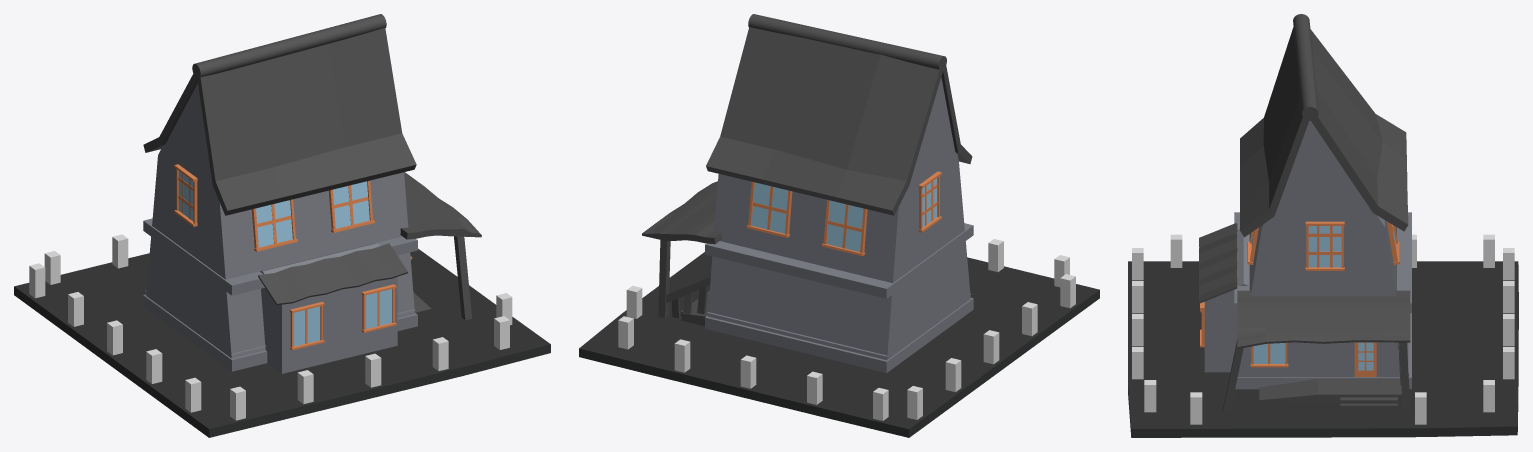
The model's file is Scrumptious_House2.fbx.
3 renders of one model, left to right at view 1: azimuth 30°, elevation 25°; view 2: azimuth 150°, elevation 25°; view 3: azimuth 270°, elevation 25°, orthographic. The views are drawn at different scales.
Parts seen in each view (by area): view 1: Cube.031, Path, Cube.001, Cube.016, Cube.017, Cube.014, Cube.013, Cube.004, Cube.012, Cube.018, Cube.019, Cube.006; view 2: Cube.031, Path, Cube.018, Cube.019, Cube.002, Cube.007, Cube.003, Cube.016, Cube.001, Cube.017, Cube.005; view 3: Cube.031, Path, Cube.016, Cube.010, Cube.011, Cube.001, Cube.005, Cube.007, Cube.012, Cube.013, Cube.014, Cube.015 (+4 smaller).
Part boxes in pixels (x1,y1,x2,y2): Cube.031: (143,14,481,373); Path: (14,248,550,437); Cube.001: (29,263,45,298); Cube.016: (185,377,201,412); Cube.017: (146,349,162,383); Cube.014: (297,370,313,404); Cube.013: (365,353,381,387); Cube.004: (112,234,128,268); Cube.012: (432,337,448,371); Cube.018: (107,320,122,355); Cube.019: (68,292,83,326); Cube.006: (44,251,60,284); Cube.031: (642,14,973,372); Path: (579,252,1099,437); Cube.018: (983,330,999,364); Cube.019: (945,358,961,392); Cube.002: (674,339,690,372); Cube.007: (626,285,642,318); Cube.003: (740,355,756,388); Cube.016: (1060,274,1075,308); Cube.001: (907,386,922,419); Cube.017: (1022,302,1037,336); Cube.005: (618,316,633,349); Cube.031: (1199,14,1411,412); Path: (1128,261,1518,437); Cube.016: (1170,234,1182,267); Cube.010: (1190,392,1202,424); Cube.011: (1144,380,1156,412); Cube.001: (1483,234,1494,267); Cube.005: (1483,380,1494,412); Cube.007: (1415,392,1426,424); Cube.012: (1132,347,1143,379); Cube.013: (1132,314,1143,346); Cube.014: (1132,281,1143,313); Cube.015: (1132,248,1143,280).
Bounding box in the file's own units: 1016 × 837 × 1001.
